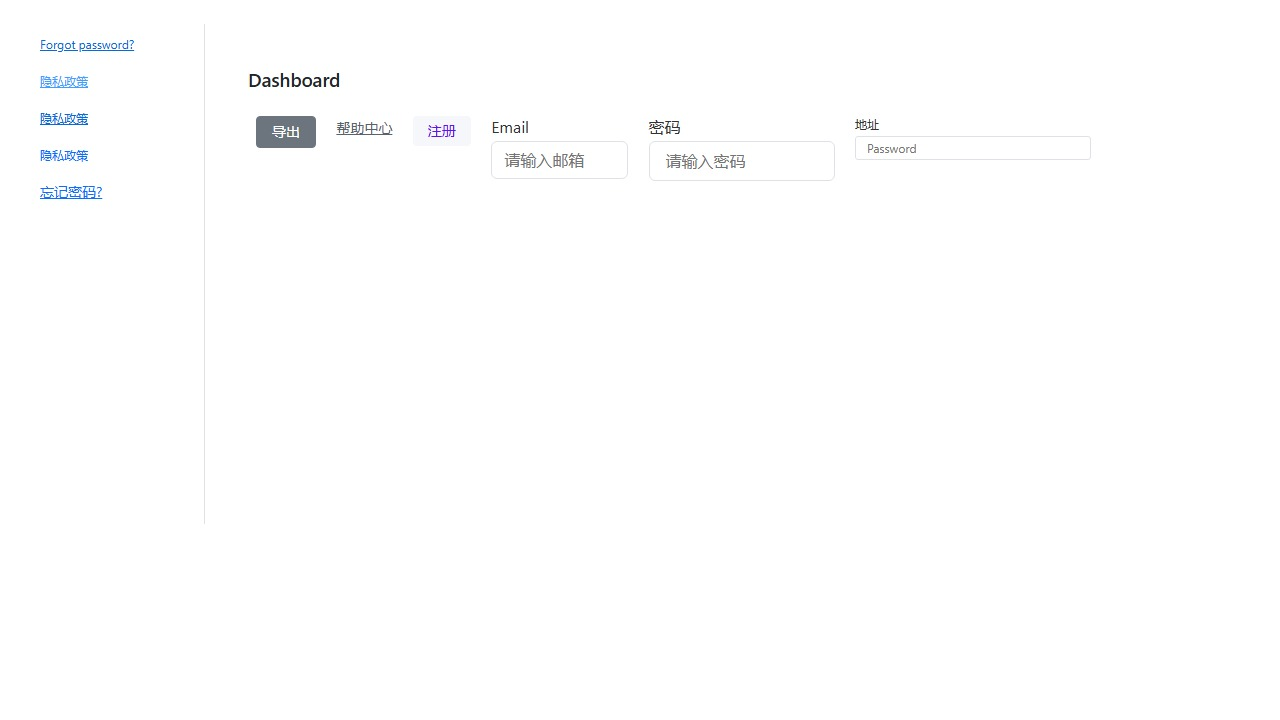button: (256, 116, 316, 148), (413, 116, 471, 146)
input: (649, 141, 835, 181), (855, 136, 1091, 160), (491, 141, 628, 179)
link: (40, 36, 134, 52), (40, 182, 102, 201), (336, 118, 392, 137), (40, 73, 88, 89), (40, 110, 88, 126), (40, 147, 88, 163)
